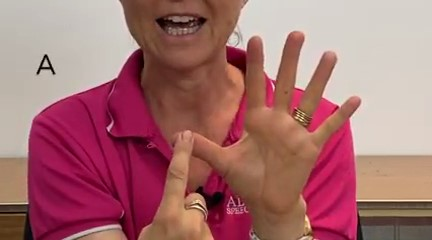A: (126, 25, 366, 240)
